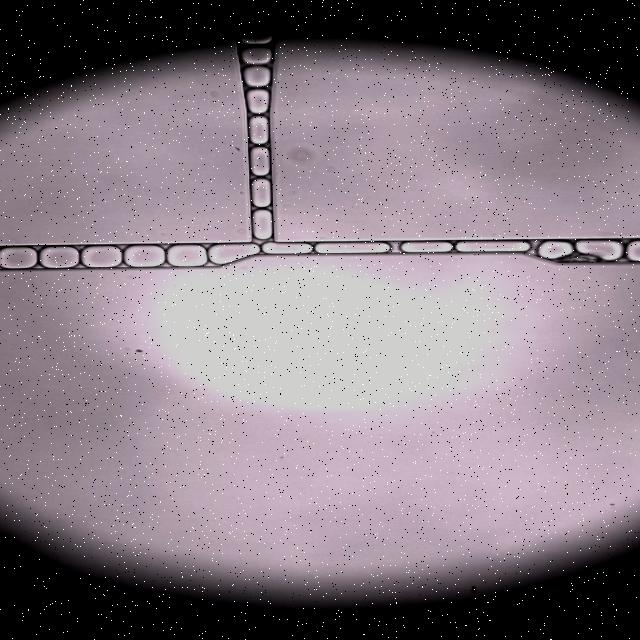L: (537, 241, 573, 259), (401, 241, 452, 253), (252, 210, 272, 239), (243, 67, 271, 87), (249, 116, 269, 144), (251, 179, 271, 207), (246, 90, 269, 113), (263, 243, 311, 254), (240, 47, 271, 64), (251, 147, 269, 176), (239, 30, 272, 45), (626, 240, 640, 261)
S: (209, 244, 259, 264), (575, 240, 622, 260), (124, 246, 165, 267), (81, 246, 121, 267), (167, 245, 207, 266), (40, 246, 78, 268), (0, 247, 37, 269), (315, 243, 389, 254), (456, 241, 529, 252)
